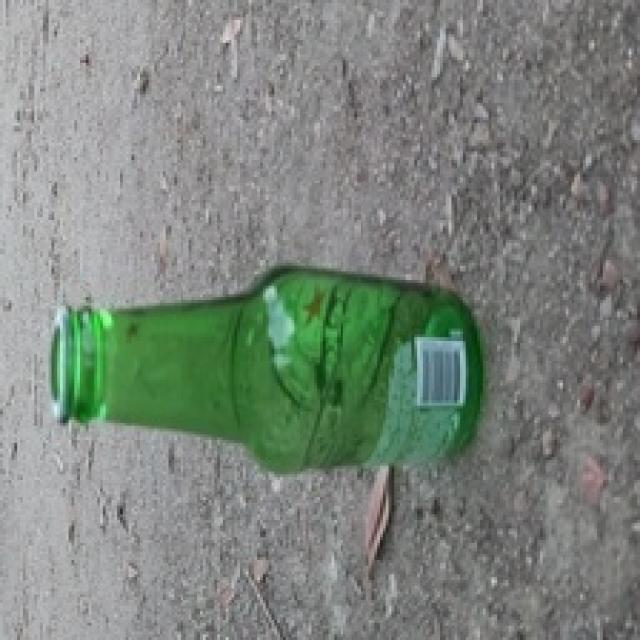Glass: (49, 263, 482, 477)
